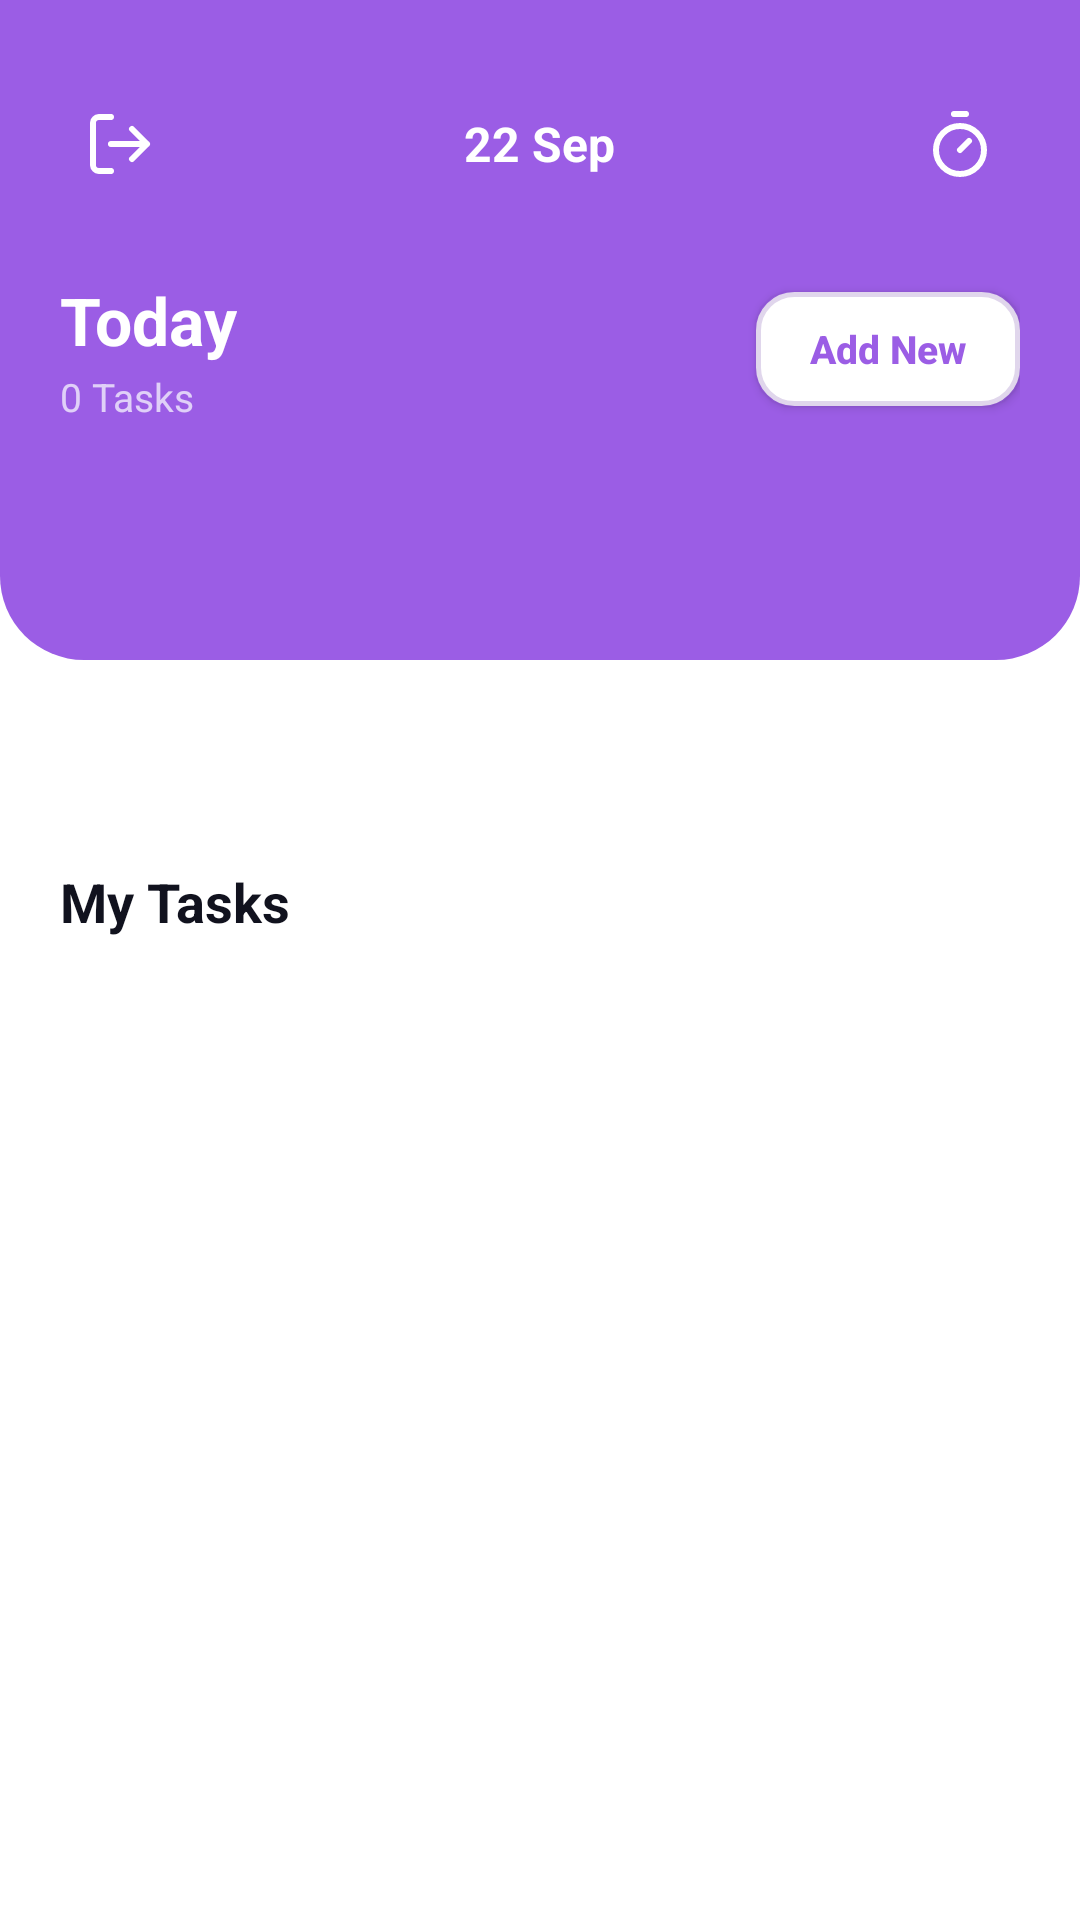

Screen size 1080 × 1920. Icon name, then its center in pixels as (x,y):
Timer: (960,144)
